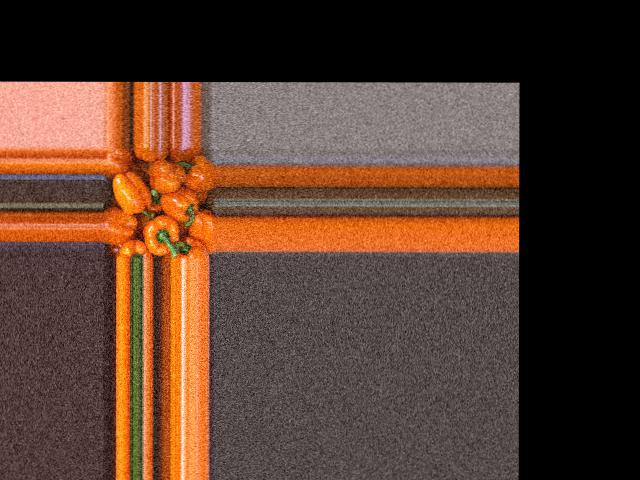bell_pepper: (161, 146, 204, 170)
